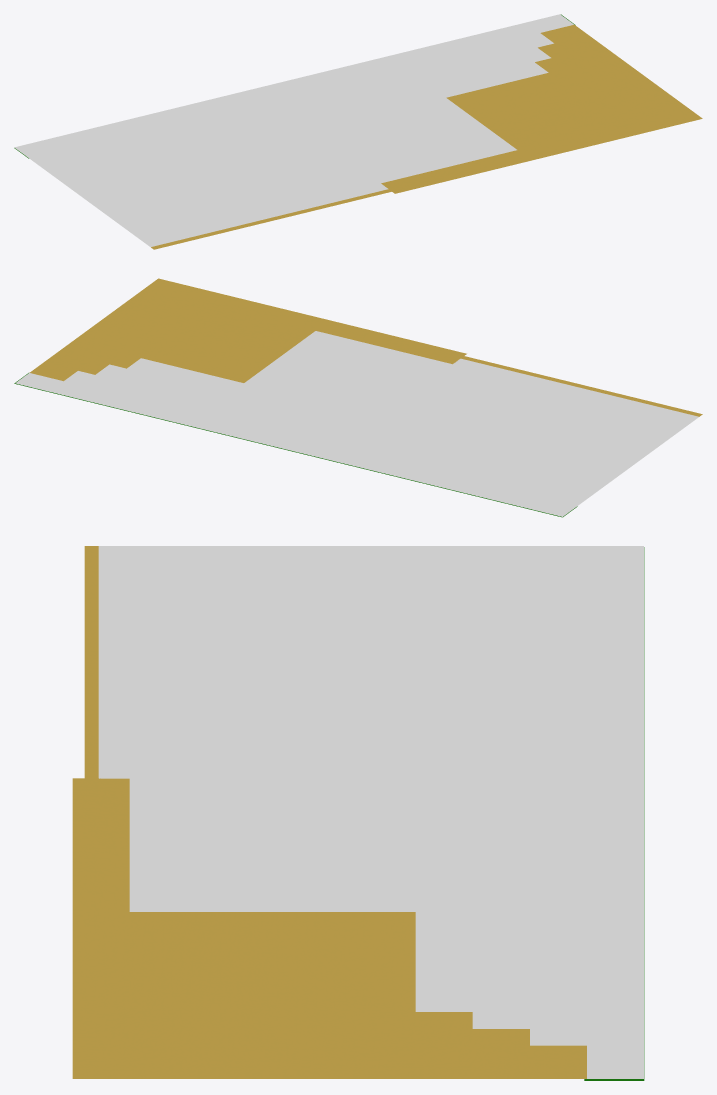
File: CalcadaPraia.fbx
3 renders of one model, top to bottom at view 1: azimuth 30°, elevation 25°; view 2: azimuth 150°, elevation 25°; view 3: azimuth 270°, elevation 25°, orthographic. The views are drawn at different scales.
Visible parts, largest first — view 1: Plane.006, Plane.005; view 2: Plane.006, Plane.005, Plane.010; view 3: Plane.006, Plane.005.
Boxes of the visible parts, x1,y1,x2,y2 form: Plane.006: (252,14,702,193); Plane.005: (14,89,391,249); Plane.006: (15,278,466,458); Plane.005: (324,356,702,516); Plane.010: (14,373,577,517); Plane.006: (72,778,643,1078); Plane.005: (84,546,643,778).
Size of the model in its own units: 4213 by 3.66 by 1907.
